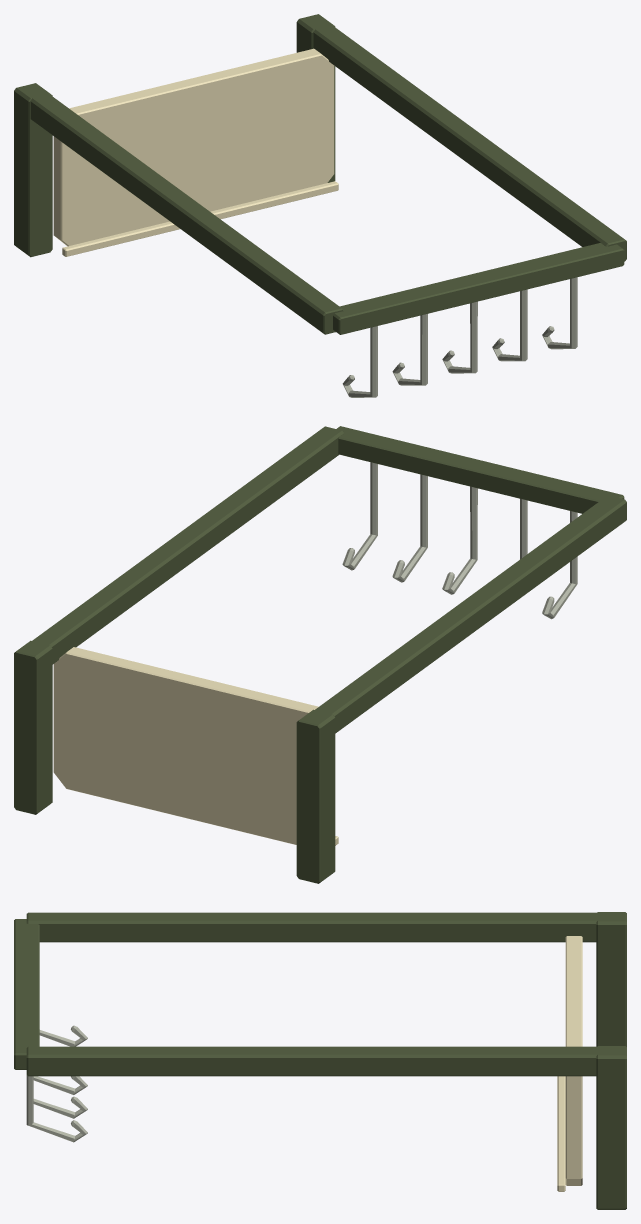
Rendered from fixture_10_cleaning_tool_rack.glb.
3 renders of one model, top to bottom at view 1: azimuth 30°, elevation 25°; view 2: azimuth 150°, elevation 25°; view 3: azimuth 270°, elevation 25°, orthographic. The views are drawn at different scales.
Visible parts, largest first — view 1: fixture_10_cleaning_tool_rack; view 2: fixture_10_cleaning_tool_rack; view 3: fixture_10_cleaning_tool_rack.
Boxes of the visible parts, bbox=[...] form: fixture_10_cleaning_tool_rack: bbox=[14, 14, 626, 397]; fixture_10_cleaning_tool_rack: bbox=[14, 426, 626, 883]; fixture_10_cleaning_tool_rack: bbox=[14, 912, 626, 1209].
Size of what is drawn, in the model's own units: 1.01 by 0.5 by 1.8.
